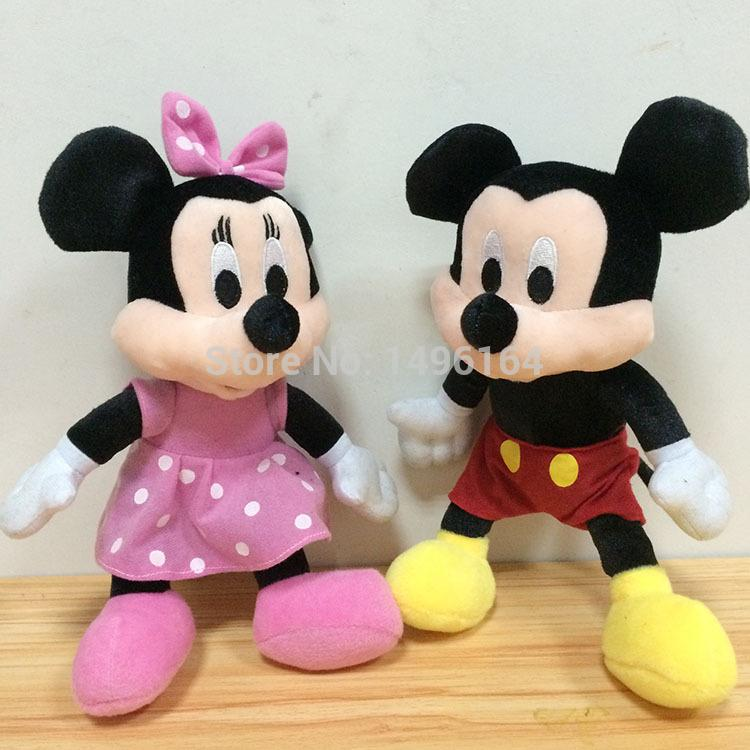Mickey: (397, 86, 750, 385)
